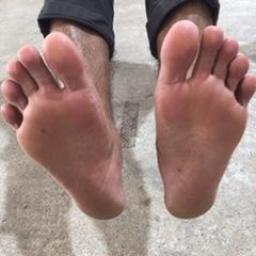Plantar View -Both Feet-: (1, 16, 255, 225)
